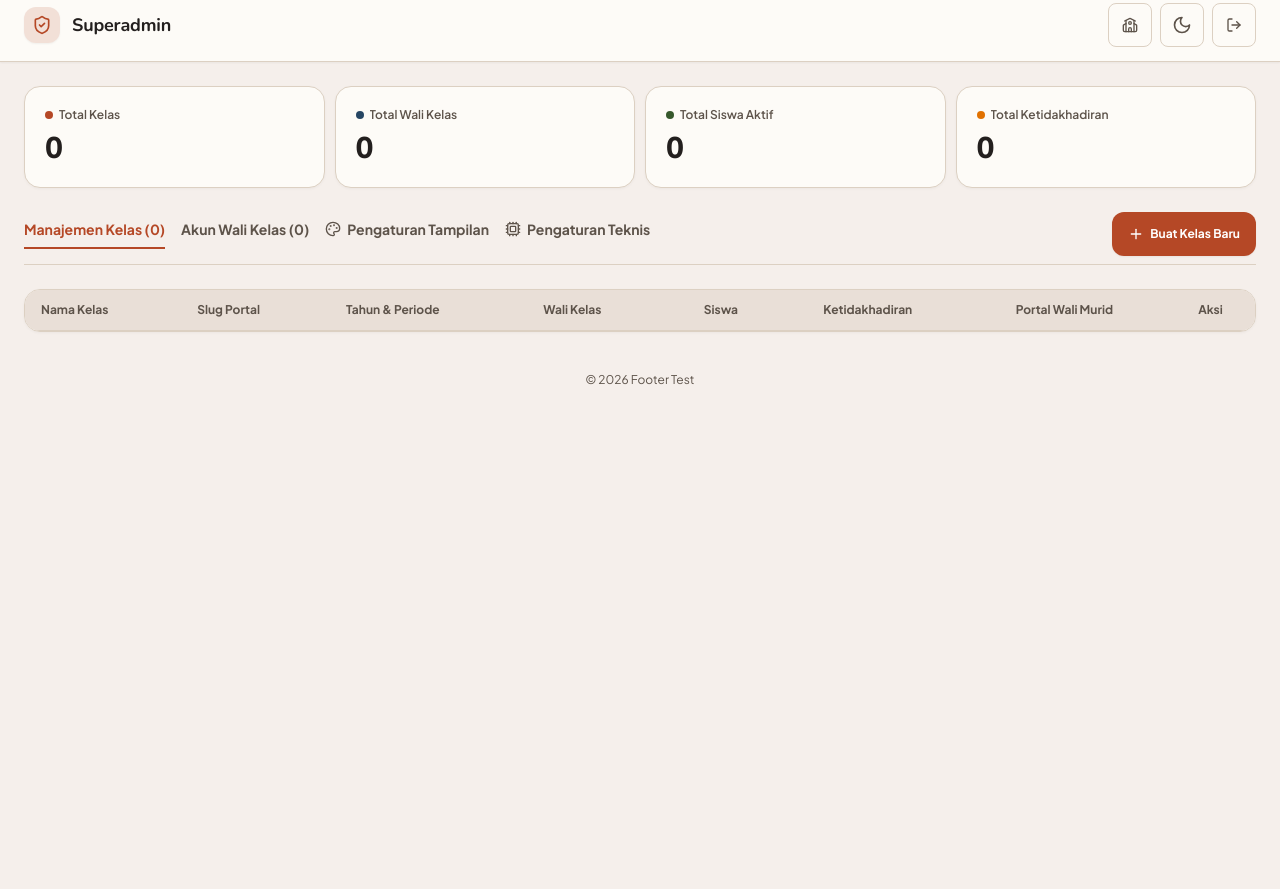
Scenario: Redis Cache Server UI in Database Subtab › should render Redis Cache Server section with configurations hidden when disabled
What coordinates should you click on to do the following:
click the button "Pengaturan Teknis"
I would click on:
 (578, 234)
Its box is [505,219,650,249].
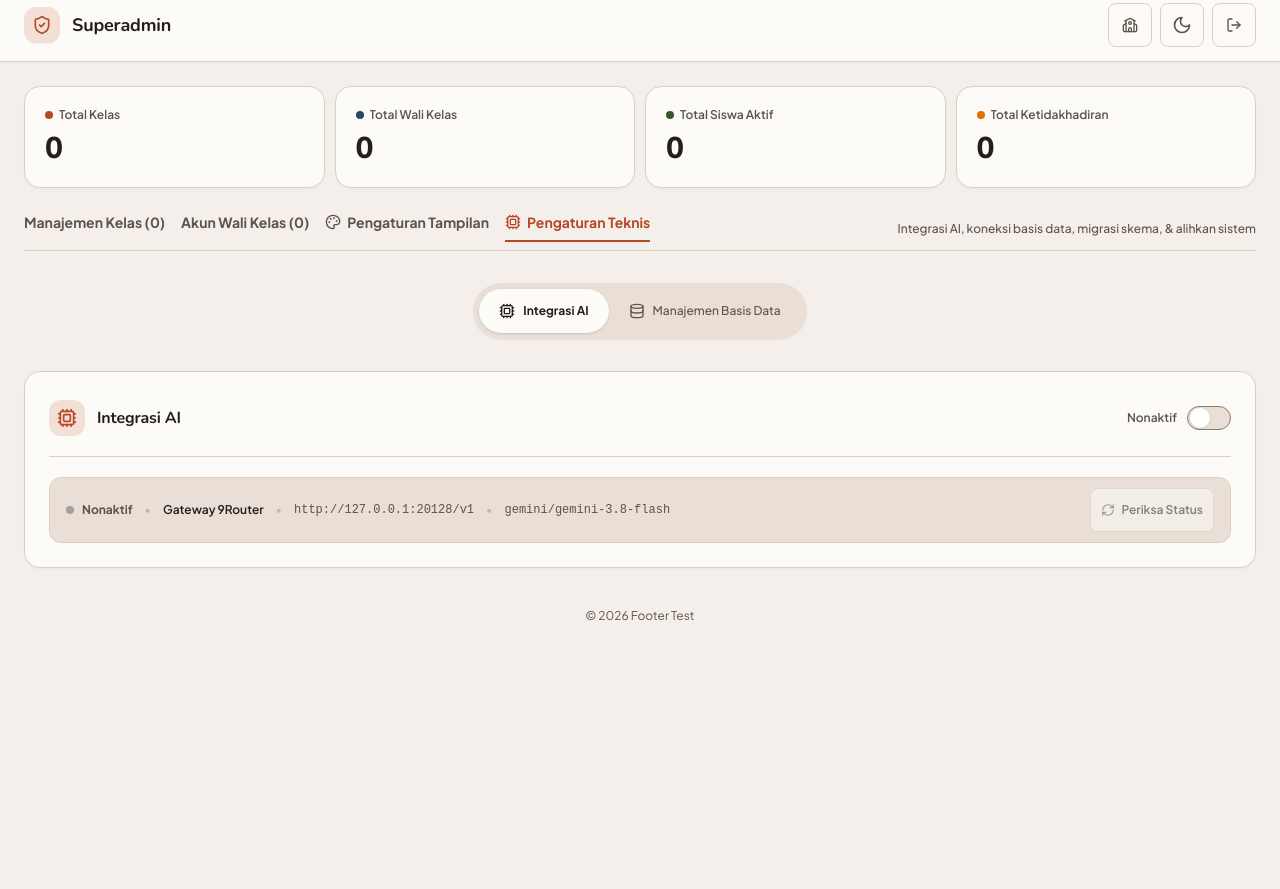
What coordinates should you click on to do the following:
click the tab "Manajemen Basis Data"
I would click on:
 (705, 311)
Its box is [608,289,801,333].
(page scrolled)
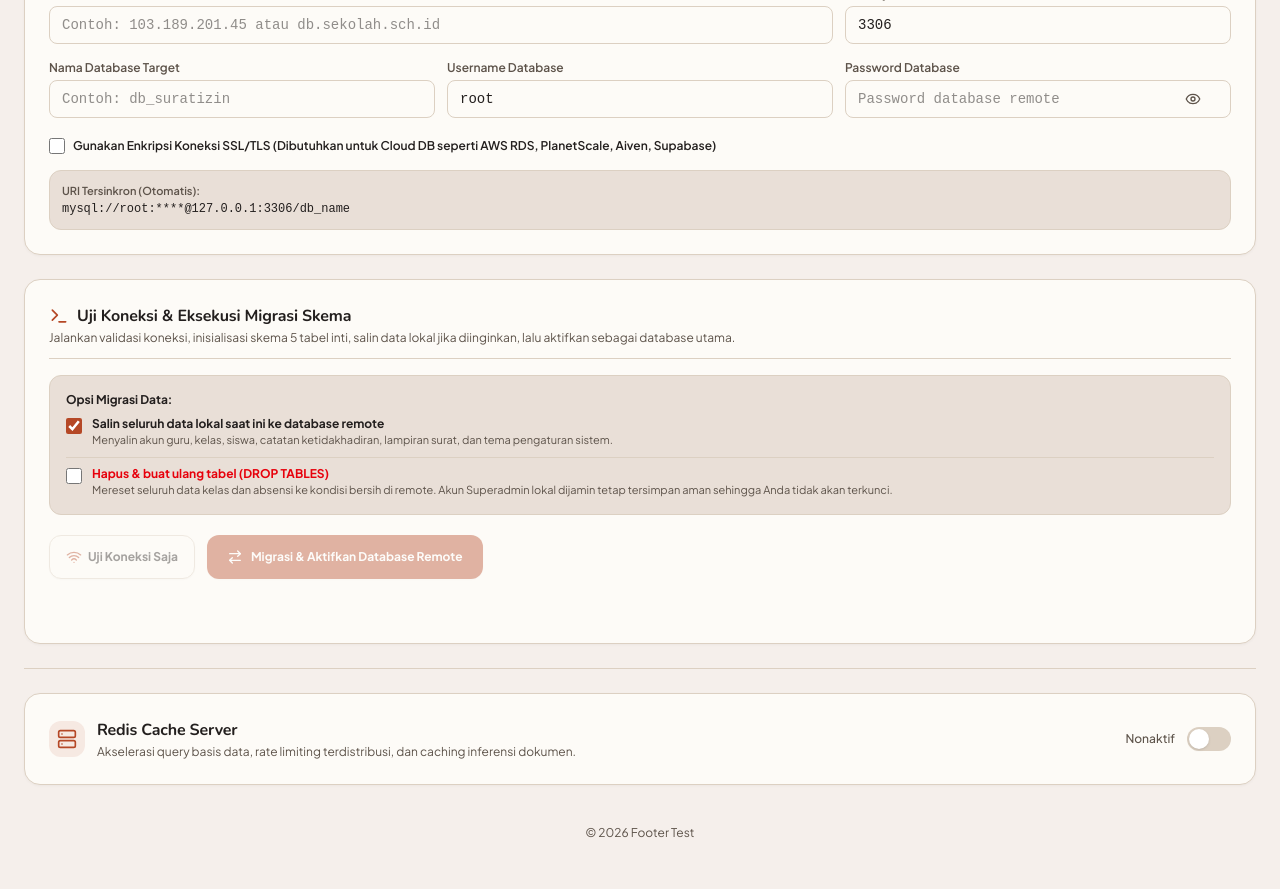
Result: the heading "Redis Cache Server" is shown at [97,719,237,741]
